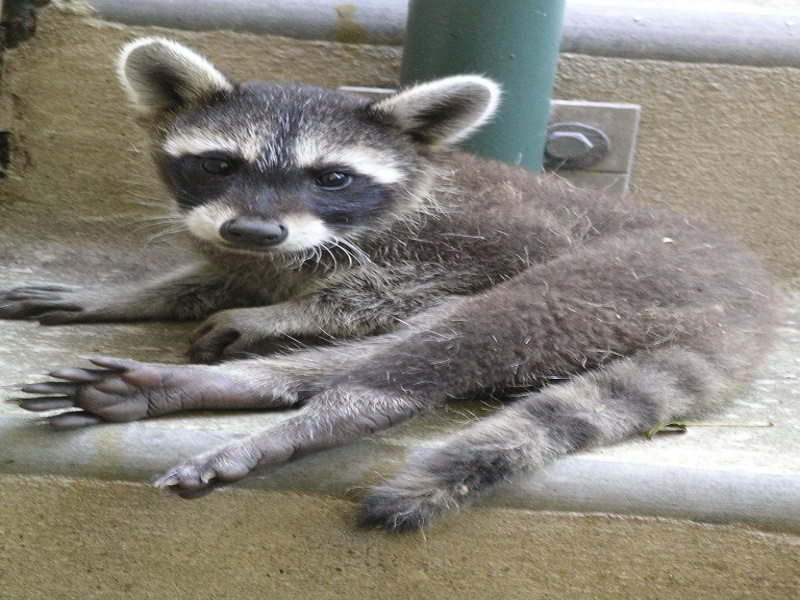raccoon: (14, 37, 777, 548)
